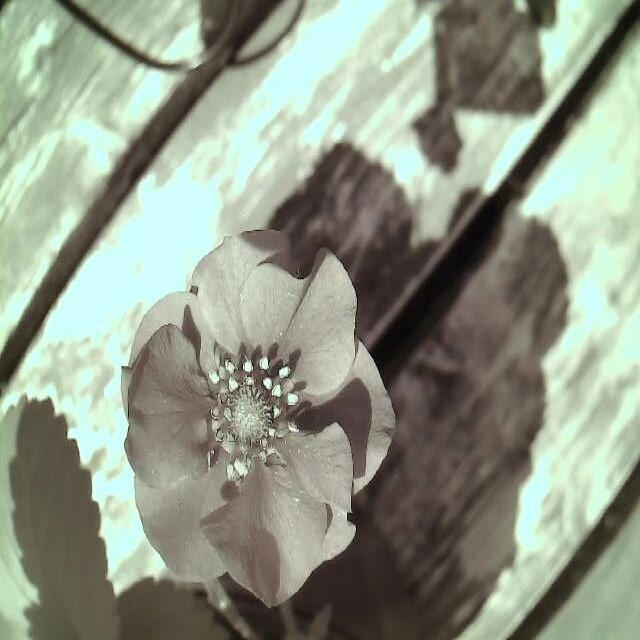flower: (119, 223, 406, 615)
